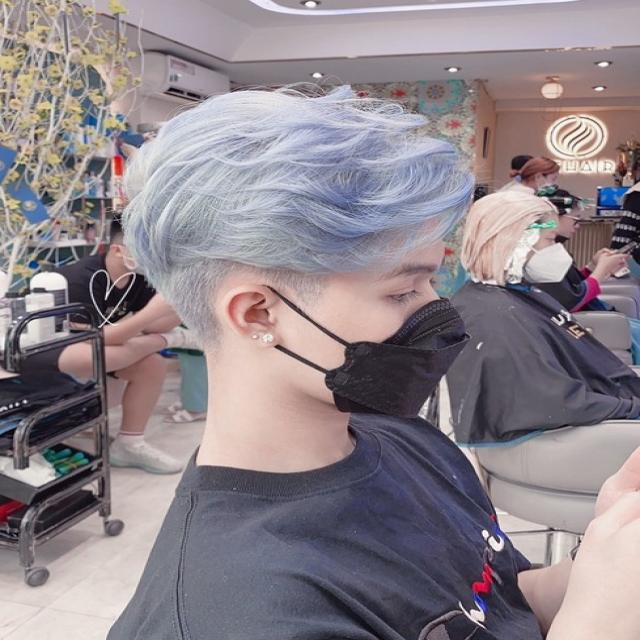Nonhelmet: (114, 77, 482, 418)
